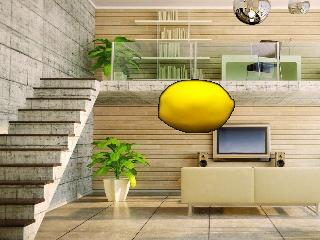lemon: (159, 80, 233, 132)
